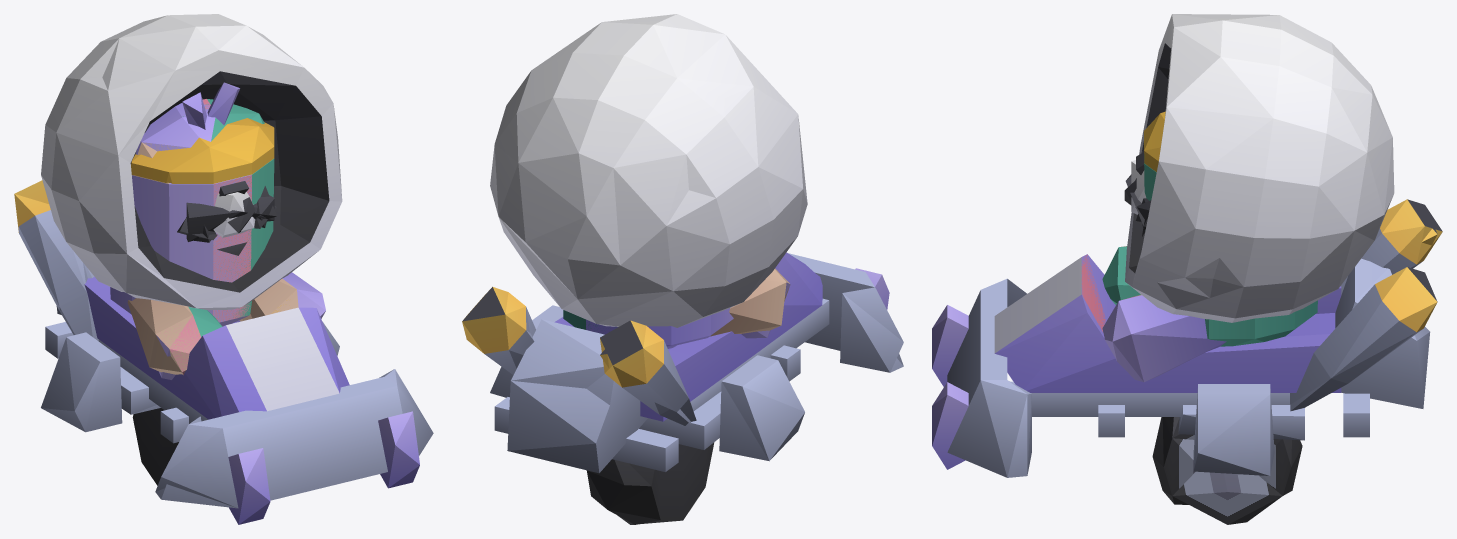
The model's file is karts.glb.
The picture shows the model from 3 angles, left to right: view 1: azimuth 30°, elevation 25°; view 2: azimuth 150°, elevation 25°; view 3: azimuth 270°, elevation 25°; orthographic projection. The views are drawn at different scales.
Parts seen in each view (by area): view 1: kart-oobi, kart-oodi, kart-oozi, kart-ooli, kart-oopi, wheel; view 2: kart-oobi, kart-oozi, wheel, kart-oodi, kart-ooli; view 3: kart-oobi, wheel, kart-oodi, kart-oopi, kart-oozi, kart-ooli.
Part boxes in pixels (x1,y1,x2,y2): kart-oobi: [14, 14, 433, 524]; kart-oodi: [19, 38, 396, 508]; kart-oozi: [15, 142, 298, 374]; kart-ooli: [131, 118, 286, 313]; kart-oopi: [183, 99, 274, 372]; wheel: [132, 408, 178, 485]; kart-oobi: [462, 14, 903, 473]; kart-oozi: [511, 268, 789, 471]; wheel: [586, 442, 714, 524]; kart-oodi: [580, 34, 903, 396]; kart-ooli: [462, 307, 525, 353]; kart-oobi: [932, 14, 1442, 477]; wheel: [1152, 417, 1302, 524]; kart-oodi: [981, 45, 1334, 379]; kart-oopi: [1102, 154, 1317, 346]; kart-oozi: [1121, 174, 1437, 340]; kart-ooli: [1135, 111, 1327, 404].
Bounding box in the file's own units: 0.9323 × 1.54 × 1.43.
Materials: 1 (1 with a texture image).
